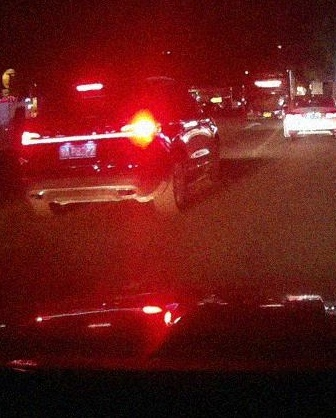L_light: (21, 131, 65, 145)
R_light: (119, 121, 161, 140)
T_light: (76, 83, 103, 90)
night-right: (21, 76, 173, 221)
